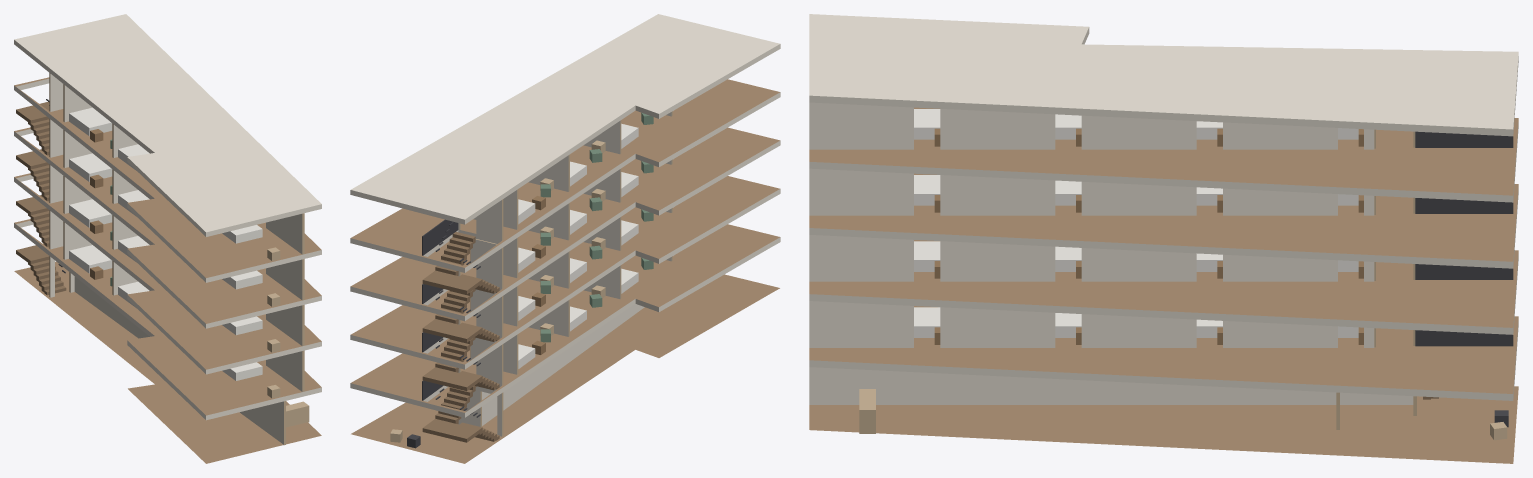
File: interior.glb
3 views of the same model, side by side, from view 1: azimuth 30°, elevation 25°; view 2: azimuth 150°, elevation 25°; view 3: azimuth 270°, elevation 25° (orthographic). The views are drawn at different scales.
Parts seen in each view (by area): view 1: slabs, partitions, stair, coarse-s3, coarse-s4, coarse-s2, coarse-s1, coarse-s0; view 2: slabs, partitions, stair, coarse-s3, coarse-s1, coarse-s4, coarse-s2; view 3: slabs, partitions, stair, coarse-s4, coarse-s3, coarse-s2, coarse-s1, coarse-s0.
Part boxes in pixels (left/top/right/bottom): slabs: left=14, top=14, right=321, bottom=463; partitions: left=49, top=73, right=304, bottom=445; stair: left=16, top=99, right=66, bottom=295; coarse-s3: left=69, top=153, right=280, bottom=306; coarse-s4: left=69, top=107, right=280, bottom=260; coarse-s2: left=69, top=199, right=280, bottom=352; coarse-s1: left=69, top=245, right=280, bottom=398; coarse-s0: left=286, top=401, right=309, bottom=427; slabs: left=350, top=14, right=780, bottom=463; partitions: left=458, top=111, right=672, bottom=436; stair: left=422, top=219, right=499, bottom=442; coarse-s3: left=518, top=159, right=673, bottom=272; coarse-s1: left=518, top=255, right=673, bottom=368; coarse-s4: left=518, top=112, right=653, bottom=224; coarse-s2: left=518, top=207, right=673, bottom=320; slabs: left=809, top=14, right=1518, bottom=463; partitions: left=809, top=102, right=1416, bottom=429; stair: left=1415, top=131, right=1513, bottom=399; coarse-s4: left=914, top=109, right=1363, bottom=146; coarse-s3: left=914, top=175, right=1363, bottom=212; coarse-s2: left=914, top=241, right=1363, bottom=278; coarse-s1: left=914, top=307, right=1363, bottom=344; coarse-s0: left=859, top=389, right=1508, bottom=440.
Bounding box in the file's own units: 9.36 × 12.66 × 24.3.
